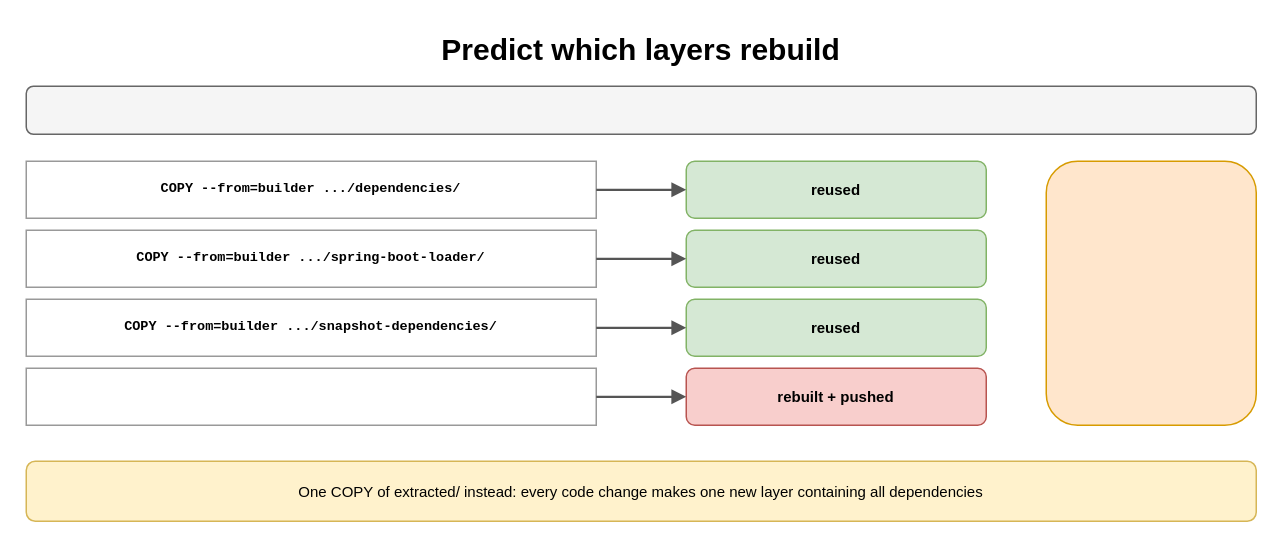
The diagram is 1283 pixels wide and 548 high, and some of its shapes have lost their labels. The centre of each missing label's shape, as x and y in pixels:
builder stage reruns: the jar changed: the point at 1150,292
COPY --from=builder .../application/: the point at 310,396
Unchanged layers are reused; only application changes: the point at 640,109
